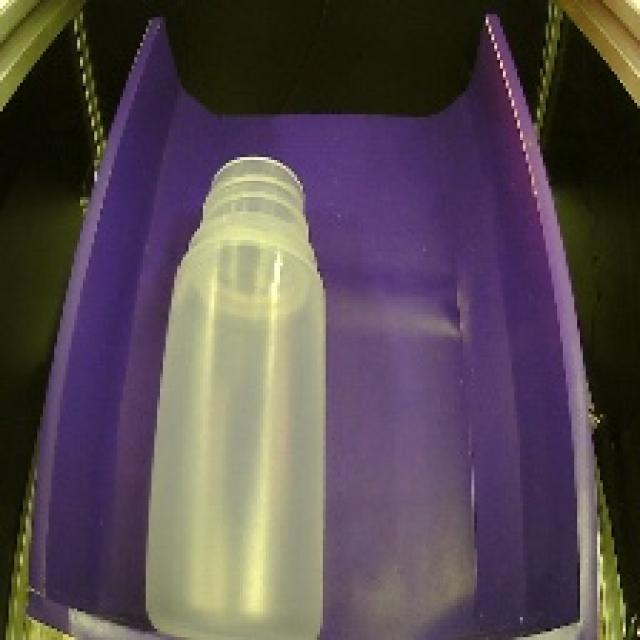plastic: (138, 132, 349, 640)
